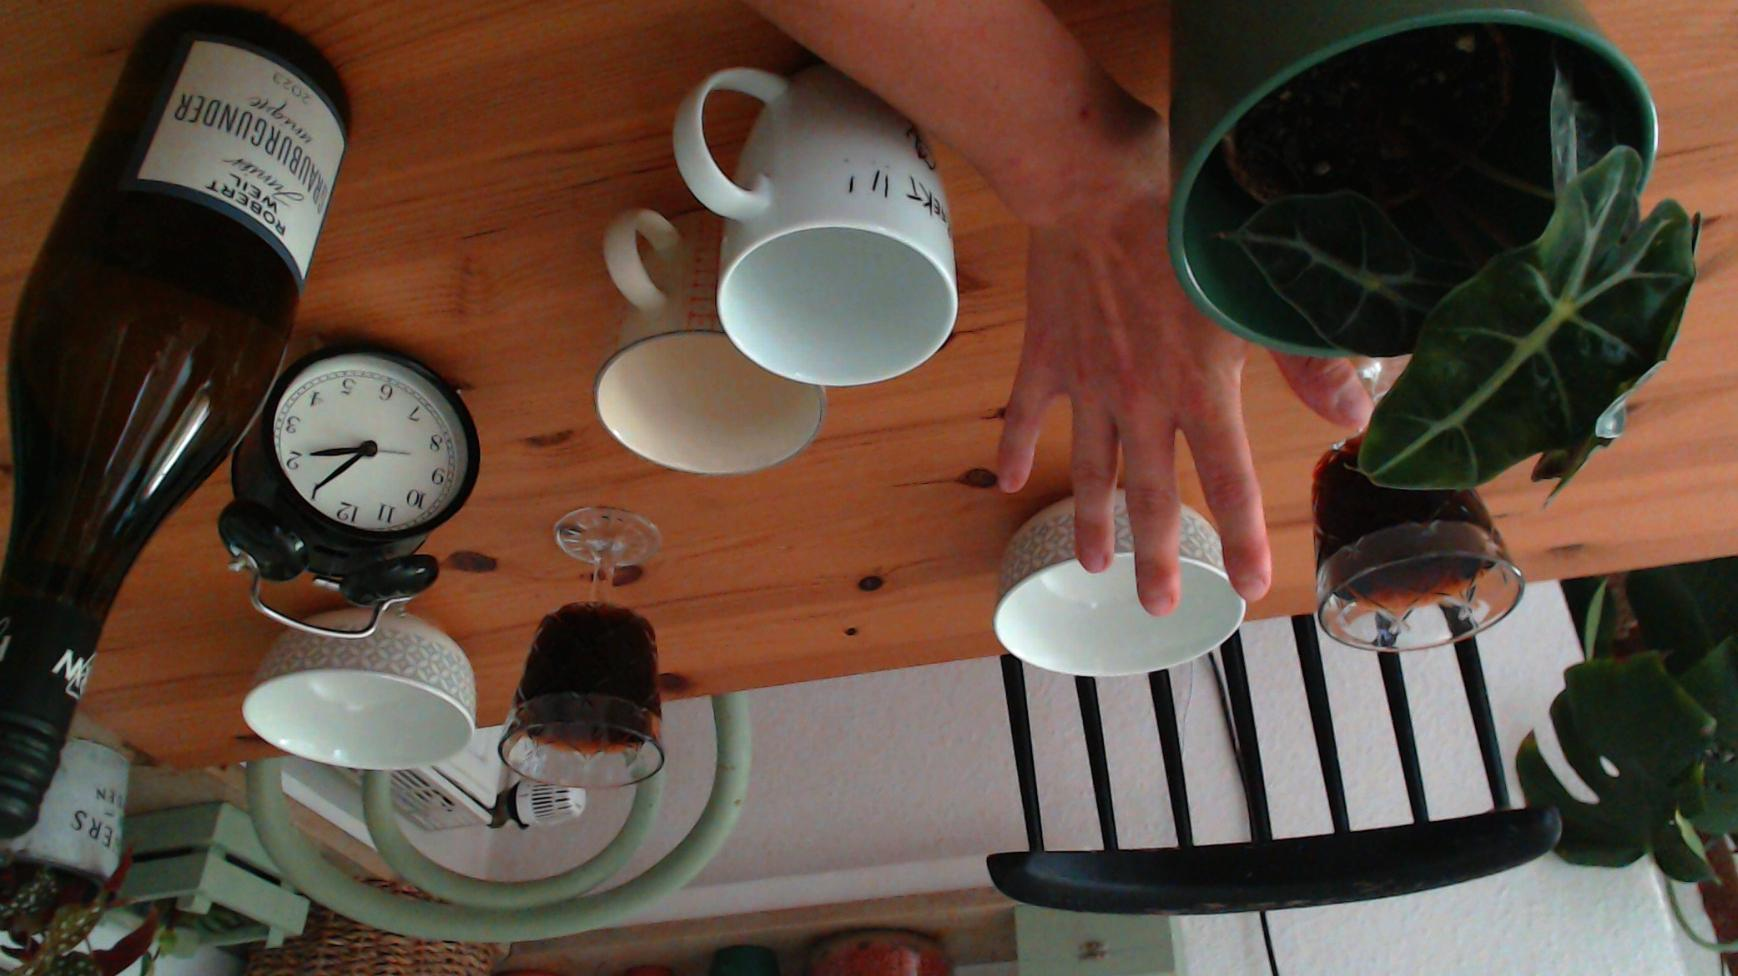bottle: (0, 8, 353, 841)
bowl_close: (993, 492, 1247, 679)
bowl_far: (241, 612, 477, 771)
clock: (269, 350, 477, 536)
cup_close: (671, 58, 961, 388)
cup_far: (591, 203, 825, 475)
hand_medium: (1010, 118, 1324, 624)
potted_plant: (1161, 0, 1680, 422)
wineglass_close: (1311, 438, 1526, 654)
wineglass_far: (498, 507, 666, 793)
